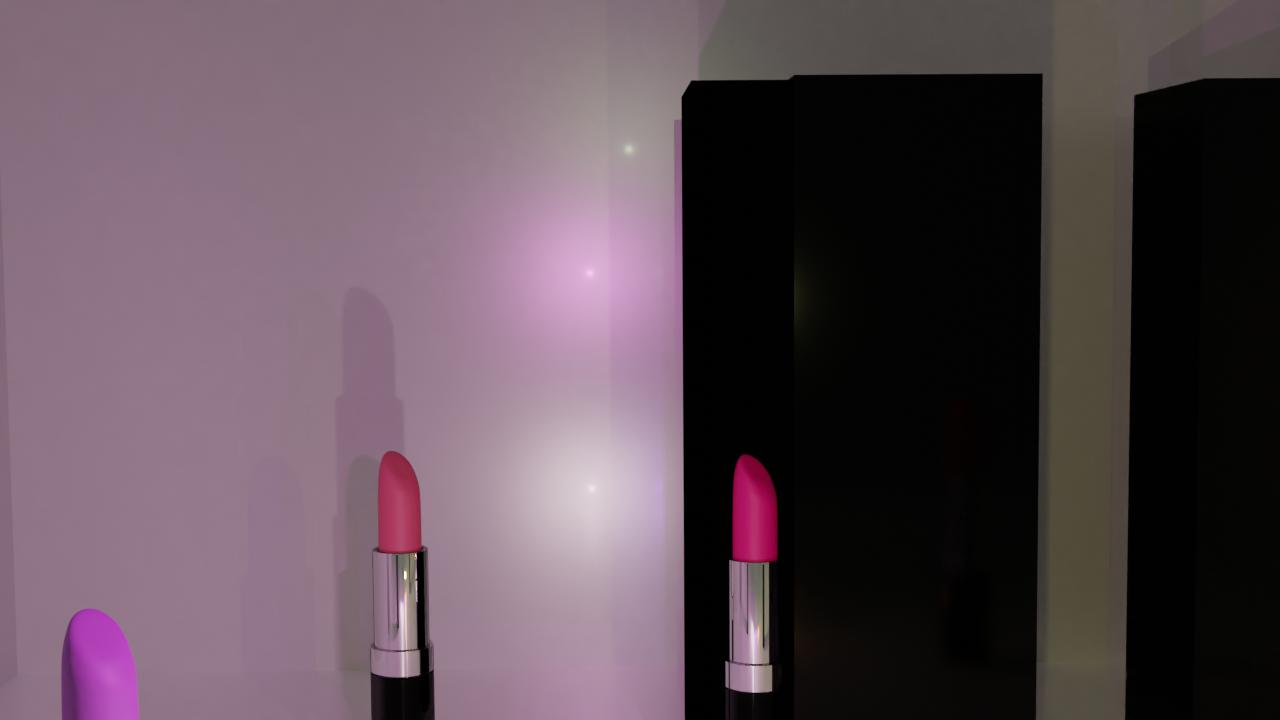CLASSIFIER_NAME: (369, 446, 437, 720), (721, 450, 790, 720), (48, 601, 173, 720)
